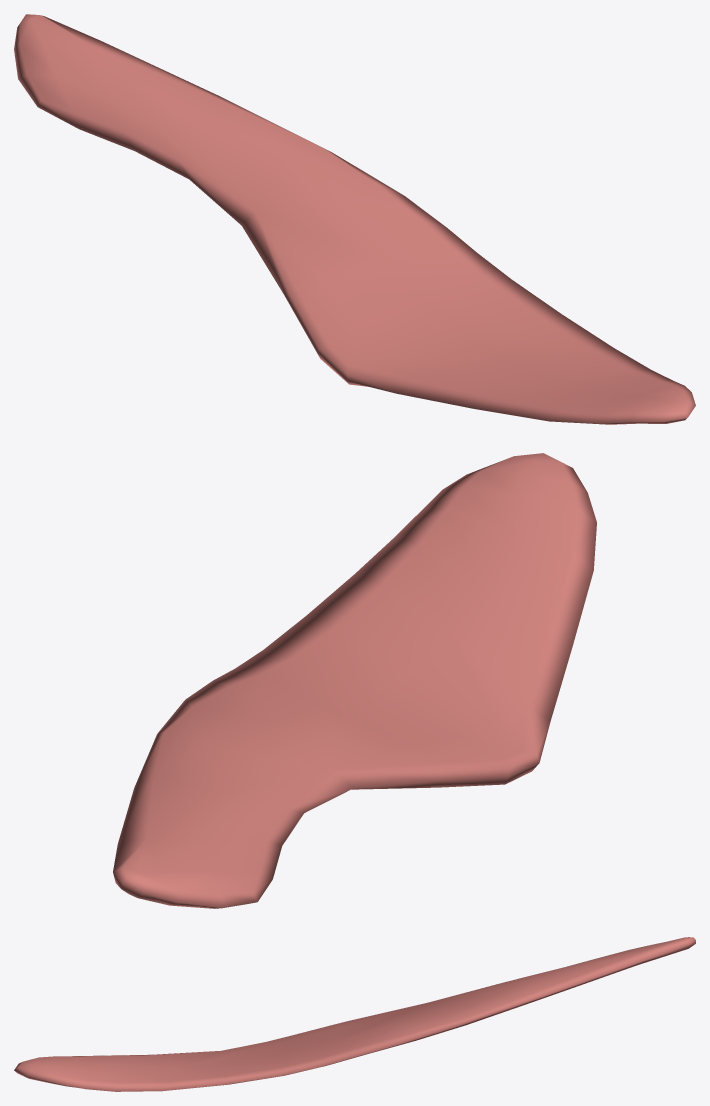
The picture shows the model from 3 angles, top to bottom: view 1: azimuth 30°, elevation 25°; view 2: azimuth 150°, elevation 25°; view 3: azimuth 270°, elevation 25°; orthographic projection. The views are drawn at different scales.
Parts seen in each view (by area): view 1: ZA_0eb5f0ff37317400; view 2: ZA_0eb5f0ff37317400; view 3: ZA_0eb5f0ff37317400.
Boxes of the visible parts, box(x1,y1,x2,y2) form: ZA_0eb5f0ff37317400: box(14, 14, 695, 424); ZA_0eb5f0ff37317400: box(113, 453, 596, 908); ZA_0eb5f0ff37317400: box(14, 937, 695, 1091).
Size of the model in its own units: 0.00773 by 0.00437 by 0.0248.
